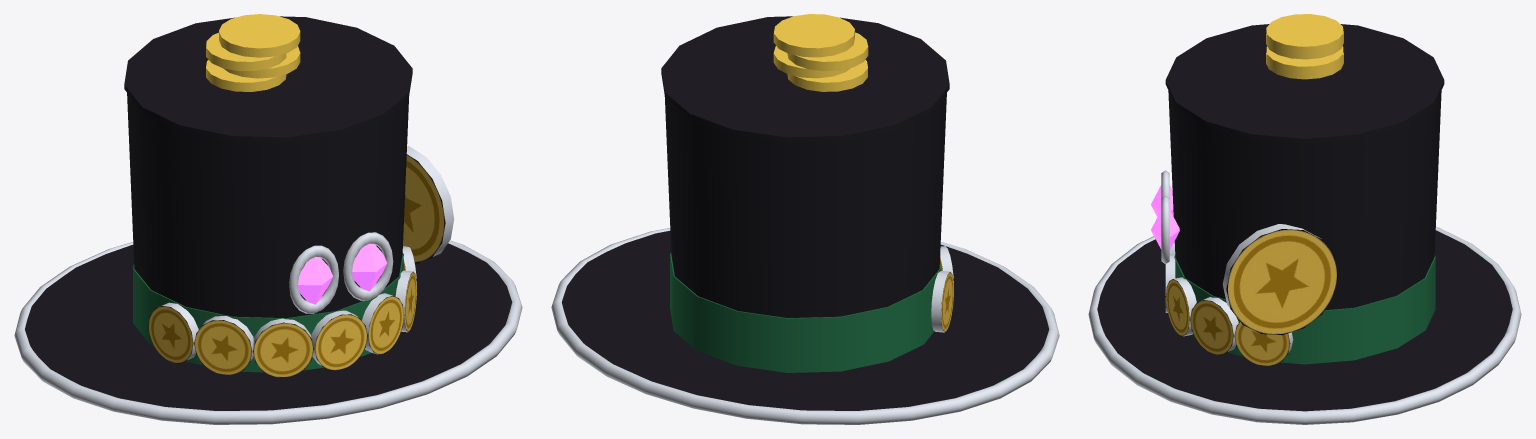
File: hat_eqtz2.glb
The picture shows the model from 3 angles, left to right: view 1: azimuth 30°, elevation 25°; view 2: azimuth 150°, elevation 25°; view 3: azimuth 270°, elevation 25°; orthographic projection. The views are drawn at different scales.
Size of the model in its own units: 2.99 by 1.88 by 2.57.
6 materials, 1 textured.
